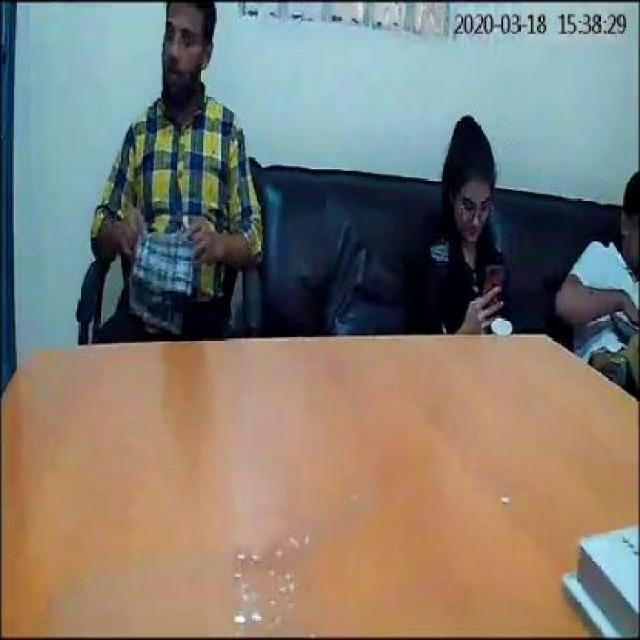spill: (53, 504, 369, 627)
